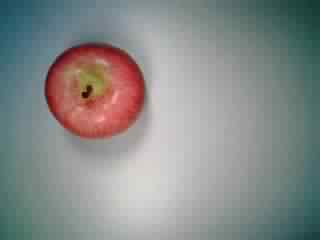apple: (42, 42, 148, 141)
